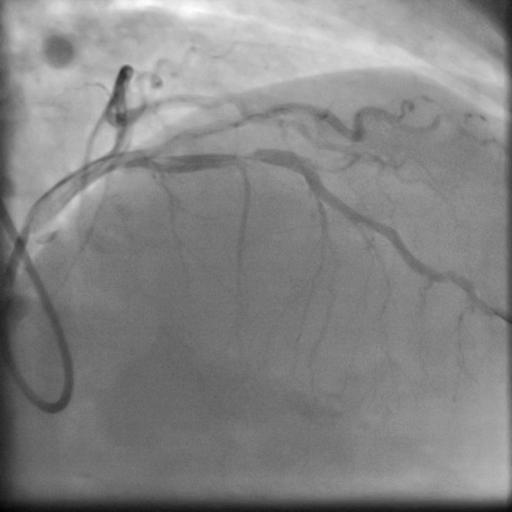Stenosis: (229, 144, 258, 169)
